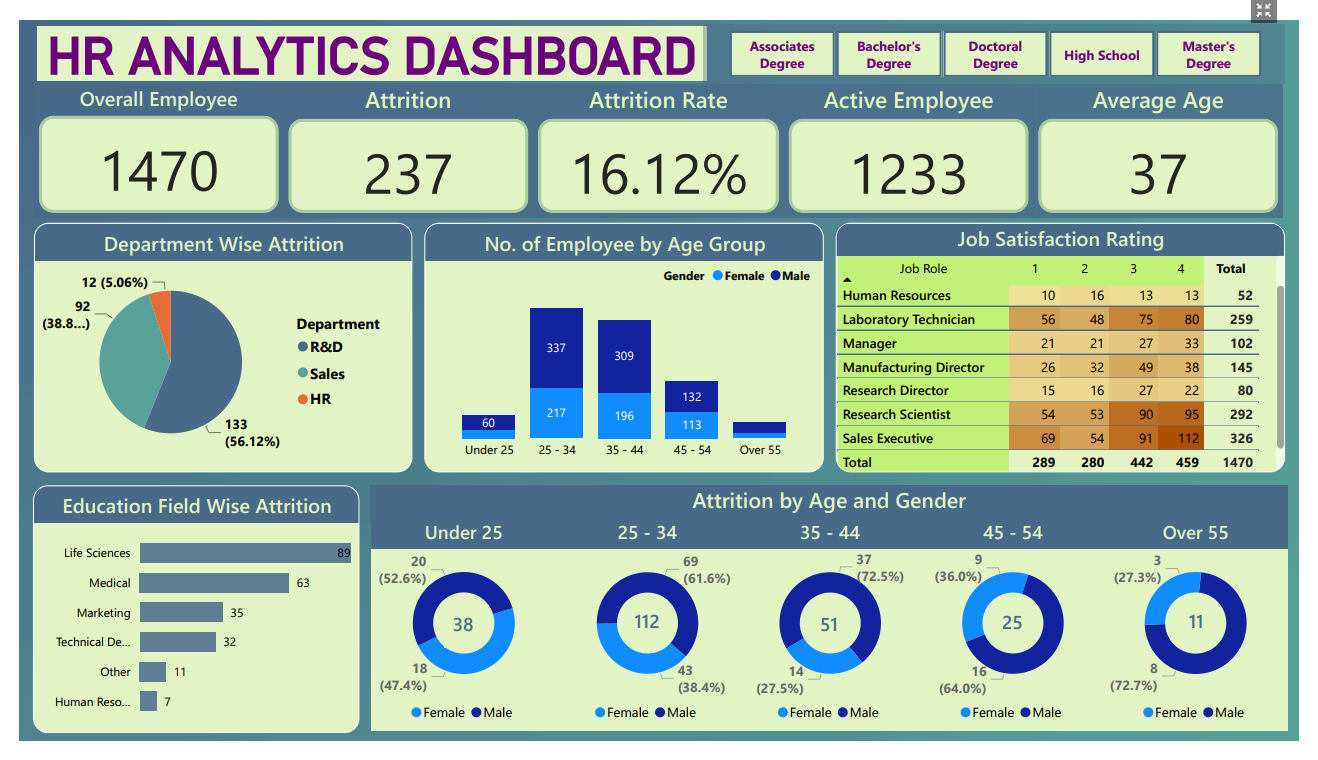

The dashboard page shown, as its layout file describes it:
{"tool":"powerbi","page":{"name":"Page 1","canvas":[1280,720],"ordinal":0},"visuals":[{"type":"cardVisual","title":"Overall Employee","fields":{"Data":["CountNonNull(HR data.Employee Count)"]},"box":[13.8,62.7,250.3,134.4],"z":0},{"type":"cardVisual","title":"Attrition","fields":{"Data":["Sum(HR data.Attrition Count)"]},"box":[264.1,62.7,250.3,134.4],"z":1000},{"type":"cardVisual","title":"Attrition Rate","fields":{"Data":["HR data.Attrition Rate"]},"box":[514.3,62.7,250.3,134.4],"z":2000},{"type":"cardVisual","title":"Active Employee","fields":{"Data":["HR data.Active Employee"]},"box":[764.6,62.7,250.3,134.4],"z":3000},{"type":"cardVisual","title":"Average Age","fields":{"Data":["Avg(HR data.Age)"]},"box":[1014.9,62.7,250.3,134.4],"z":4000},{"type":"pieChart","title":"Department Wise Attrition","fields":{"Category":["HR data.Department"],"Y":["Sum(HR data.Attrition Count)"]},"box":[13.6,201.8,379.6,250],"z":5000},{"type":"columnChart","title":"No. of Employee by Age Group","fields":{"Category":["HR data.CF_age band"],"Y":["Sum(HR data.Employee Count)"],"Series":["HR data.Gender"]},"box":[405,201.8,399.8,250],"z":6000},{"type":"pivotTable","title":"Job Satisfaction Rating","fields":{"Rows":["HR data.Job Role"],"Columns":["HR data.Job Satisfaction"],"Values":["Sum(HR data.Employee Count)"]},"box":[816.5,201.8,450,250.3],"z":7000},{"type":"donutChart","title":"Under 25","fields":{"Y":["Sum(HR data.Attrition Count)"],"Category":["HR data.Gender"],"Series":["HR data.CF_age band"]},"box":[352,499.4,184.8,211.7],"z":7500},{"type":"donutChart","title":"25 - 34","fields":{"Y":["Sum(HR data.Attrition Count)"],"Category":["HR data.Gender"],"Series":["HR data.CF_age band"]},"box":[536.7,499.4,183.1,211.7],"z":7750},{"type":"donutChart","title":"35 - 44","fields":{"Y":["Sum(HR data.Attrition Count)"],"Category":["HR data.Gender"],"Series":["HR data.CF_age band"]},"box":[719.8,499.4,183.1,211.7],"z":7875},{"type":"donutChart","title":"45 - 54","fields":{"Y":["Sum(HR data.Attrition Count)"],"Category":["HR data.Gender"],"Series":["HR data.CF_age band"]},"box":[902.9,499.4,183.1,211.7],"z":7937},{"type":"donutChart","title":"Over 55","fields":{"Y":["Sum(HR data.Attrition Count)"],"Category":["HR data.Gender"],"Series":["HR data.CF_age band"]},"box":[1085,499,185,212],"z":7968},{"type":"barChart","title":"Education Field Wise Attrition","fields":{"Category":["HR data.Education Field"],"Y":["Sum(HR data.Attrition Count)"]},"box":[13.3,465,326.7,248.3],"z":8000},{"type":"card","fields":{"Values":["Sum(HR data.Attrition Count)"]},"box":[425,583.3,38.3,45],"z":15000},{"type":"card","fields":{"Values":["Sum(HR data.Attrition Count)"]},"box":[608,580,40,45],"z":16000},{"type":"card","fields":{"Values":["Sum(HR data.Attrition Count)"]},"box":[793.3,585,35,40],"z":17000},{"type":"card","fields":{"Values":["Sum(HR data.Attrition Count)"]},"box":[975,585,38.3,36.7],"z":18000},{"type":"card","fields":{"Values":["Sum(HR data.Attrition Count)"]},"box":[1158.3,583.3,40,38.3],"z":19000},{"type":"textbox","title":"HR ANALYTICS DASHBOARD","box":[16.7,5,671.7,55],"z":20000},{"type":"slicer","fields":{"Values":["HR data.Education"]},"box":[685,3.3,581.7,60],"z":21000},{"type":"textbox","title":"Attrition by Age and Gender","box":[351.4,465.1,918.7,36],"z":21500}]}

Visuals, with their boxes in screenshot pixels (x1, y1, x2, y2), scaled from the page's 1280x720 canvas onto the 1318x760 screenshot:
"Overall Employee" cardVisual: region(14, 66, 272, 208)
"Attrition" cardVisual: region(272, 66, 530, 208)
"Attrition Rate" cardVisual: region(530, 66, 787, 208)
"Active Employee" cardVisual: region(787, 66, 1045, 208)
"Average Age" cardVisual: region(1045, 66, 1303, 208)
"Department Wise Attrition" pieChart: region(14, 213, 405, 477)
"No. of Employee by Age Group" columnChart: region(417, 213, 829, 477)
"Job Satisfaction Rating" pivotTable: region(841, 213, 1304, 477)
"Under 25" donutChart: region(362, 527, 553, 751)
"25 - 34" donutChart: region(553, 527, 741, 751)
"35 - 44" donutChart: region(741, 527, 930, 751)
"45 - 54" donutChart: region(930, 527, 1118, 751)
"Over 55" donutChart: region(1117, 527, 1308, 750)
"Education Field Wise Attrition" barChart: region(14, 491, 350, 753)
card - Sum(HR data.Attrition Count): region(438, 616, 477, 663)
card - Sum(HR data.Attrition Count): region(626, 612, 667, 660)
card - Sum(HR data.Attrition Count): region(817, 618, 853, 660)
card - Sum(HR data.Attrition Count): region(1004, 618, 1043, 656)
card - Sum(HR data.Attrition Count): region(1193, 616, 1234, 656)
"HR ANALYTICS DASHBOARD" textbox: region(17, 5, 709, 63)
slicer - HR data.Education: region(705, 3, 1304, 67)
"Attrition by Age and Gender" textbox: region(362, 491, 1308, 529)
